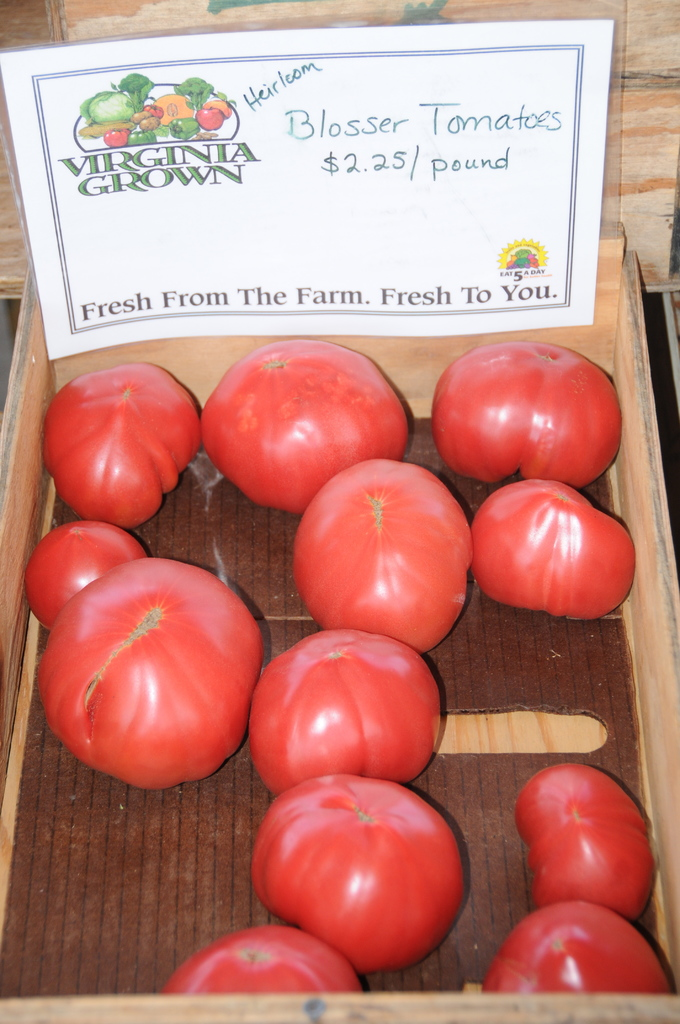Tomato: (38, 551, 265, 785), (243, 768, 470, 971), (199, 337, 412, 516), (293, 460, 480, 658), (244, 626, 447, 784), (427, 341, 624, 488), (41, 360, 204, 525), (465, 471, 642, 619), (518, 756, 671, 922), (479, 901, 671, 999), (162, 924, 363, 1002), (22, 518, 141, 632)
